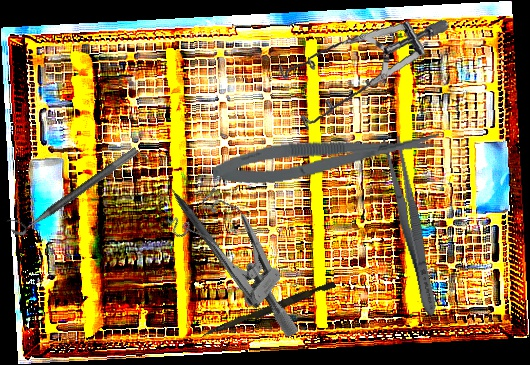Chopper: (154, 165, 271, 310)
Dressing Forceps: (378, 132, 444, 320)
Fixation Ring: (5, 136, 140, 240)
Micro Scissor: (210, 124, 443, 192)
Pusher: (201, 277, 337, 343)
Speculum: (154, 175, 337, 341), (271, 0, 451, 146)
